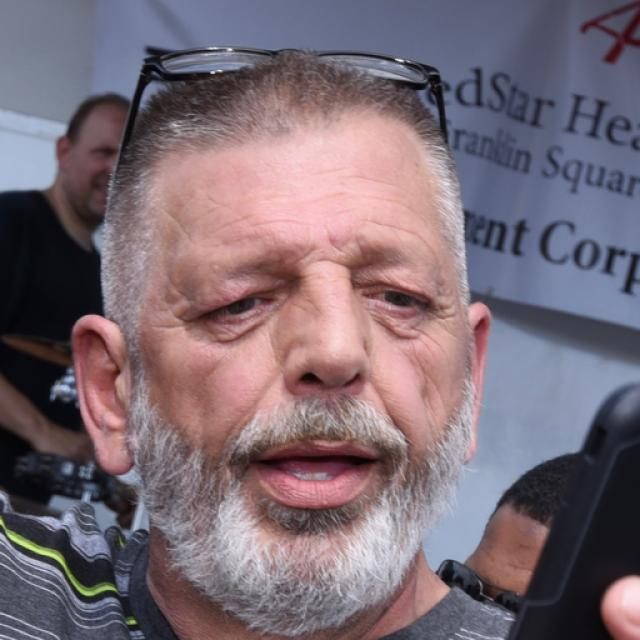sad: (130, 118, 470, 620)
